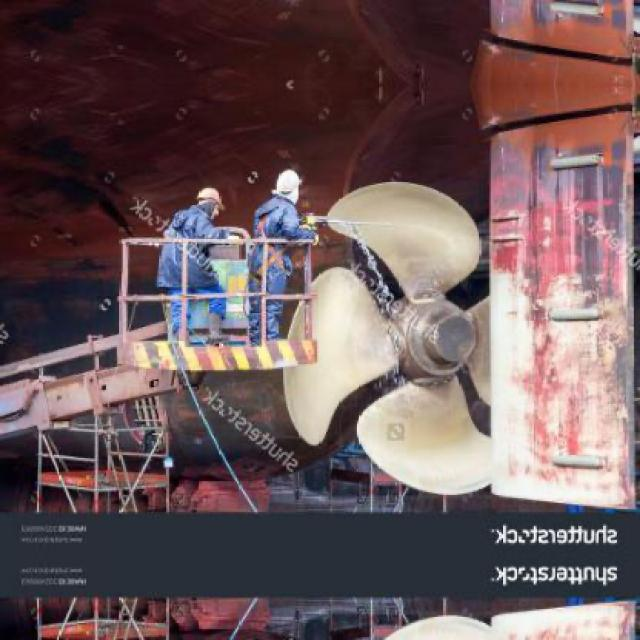helmet: (192, 185, 230, 221), (270, 164, 304, 204), (269, 0, 305, 8)
